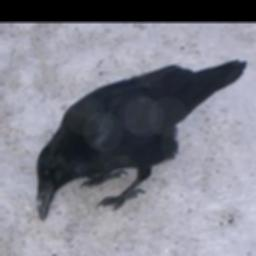Crow: (37, 58, 250, 220)
